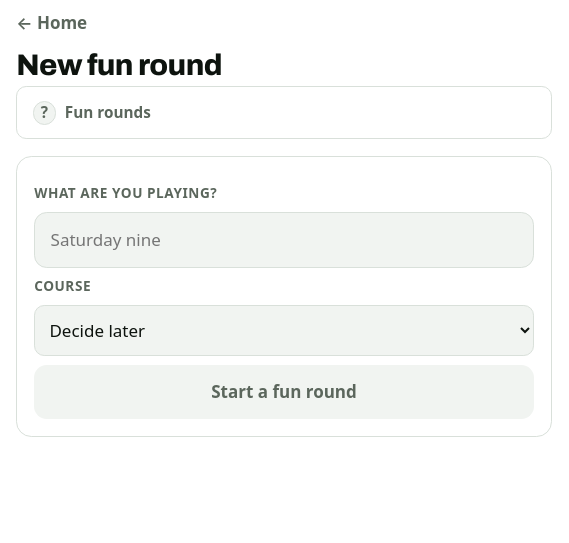
Scenario: screens render › lets the host pick which loop to play once the course has more than three holes
Select "Royal Melbourne — 9 holes" in the dropdown labelled "Course" at (284, 331), box left=34, top=305, right=534, bottom=356
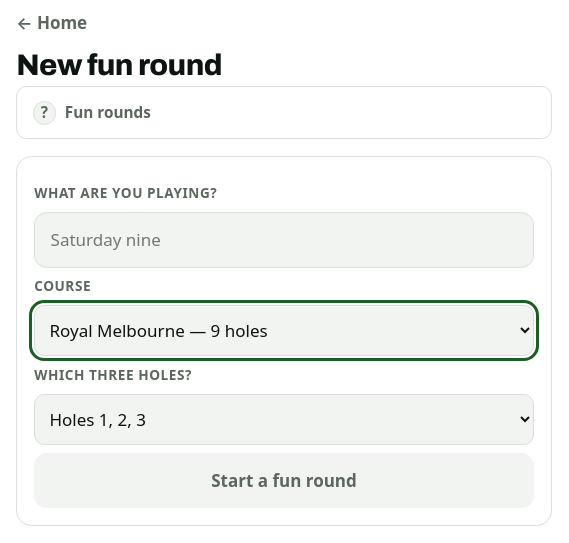
Now the dropdown labelled "Which three holes?" is shown, box left=34, top=394, right=534, bottom=445
